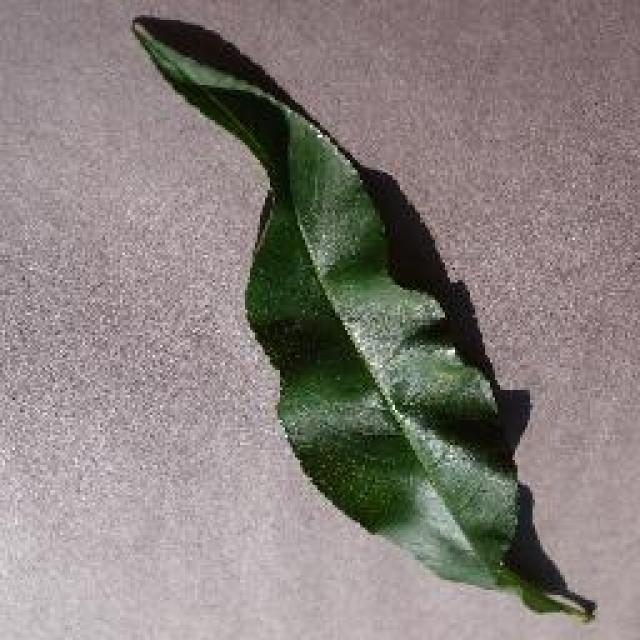Pea_healthy: (170, 41, 521, 532)
